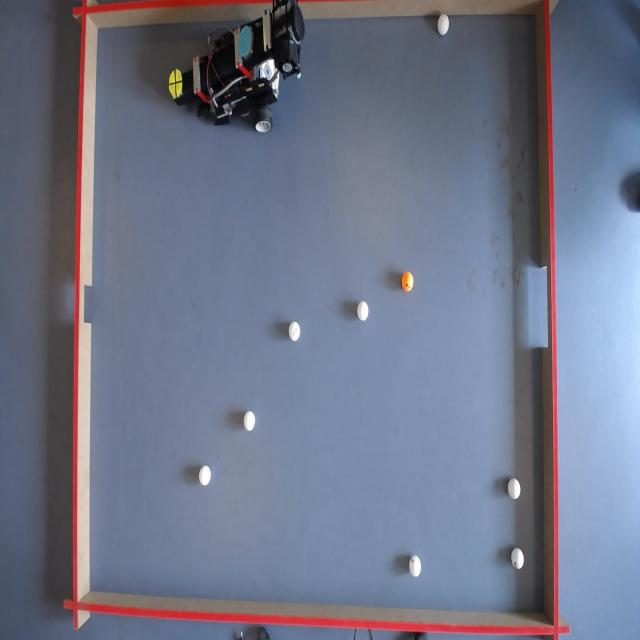orange: (402, 272, 415, 292)
robot: (160, 1, 309, 132)
robot-front: (168, 68, 185, 100)
robot-rear: (236, 25, 256, 60)
white: (512, 548, 526, 570), (508, 477, 521, 500), (437, 14, 450, 36), (200, 464, 213, 486), (410, 556, 423, 578), (357, 302, 370, 322), (288, 321, 301, 341), (244, 412, 256, 432)
